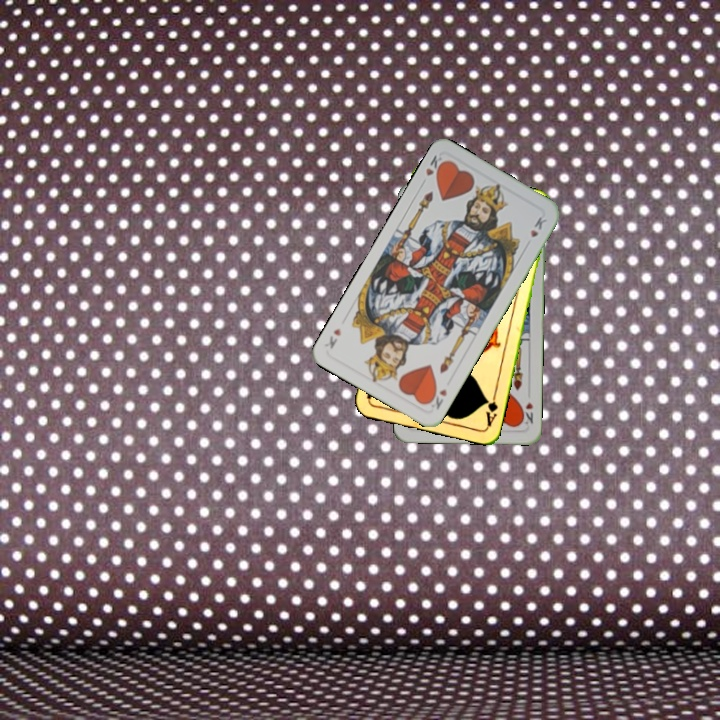GA: (482, 388, 501, 429)
HK: (417, 151, 449, 188), (424, 384, 450, 412), (518, 398, 536, 427)
